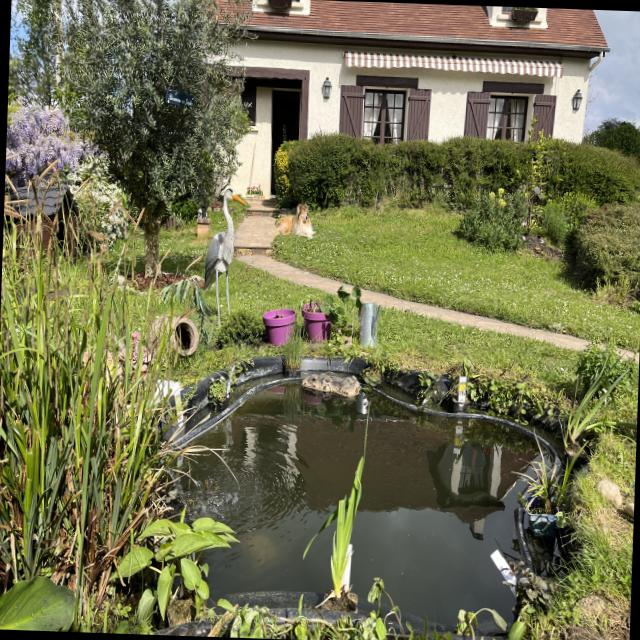Dog: (266, 189, 322, 251)
Heron: (184, 178, 252, 344)
